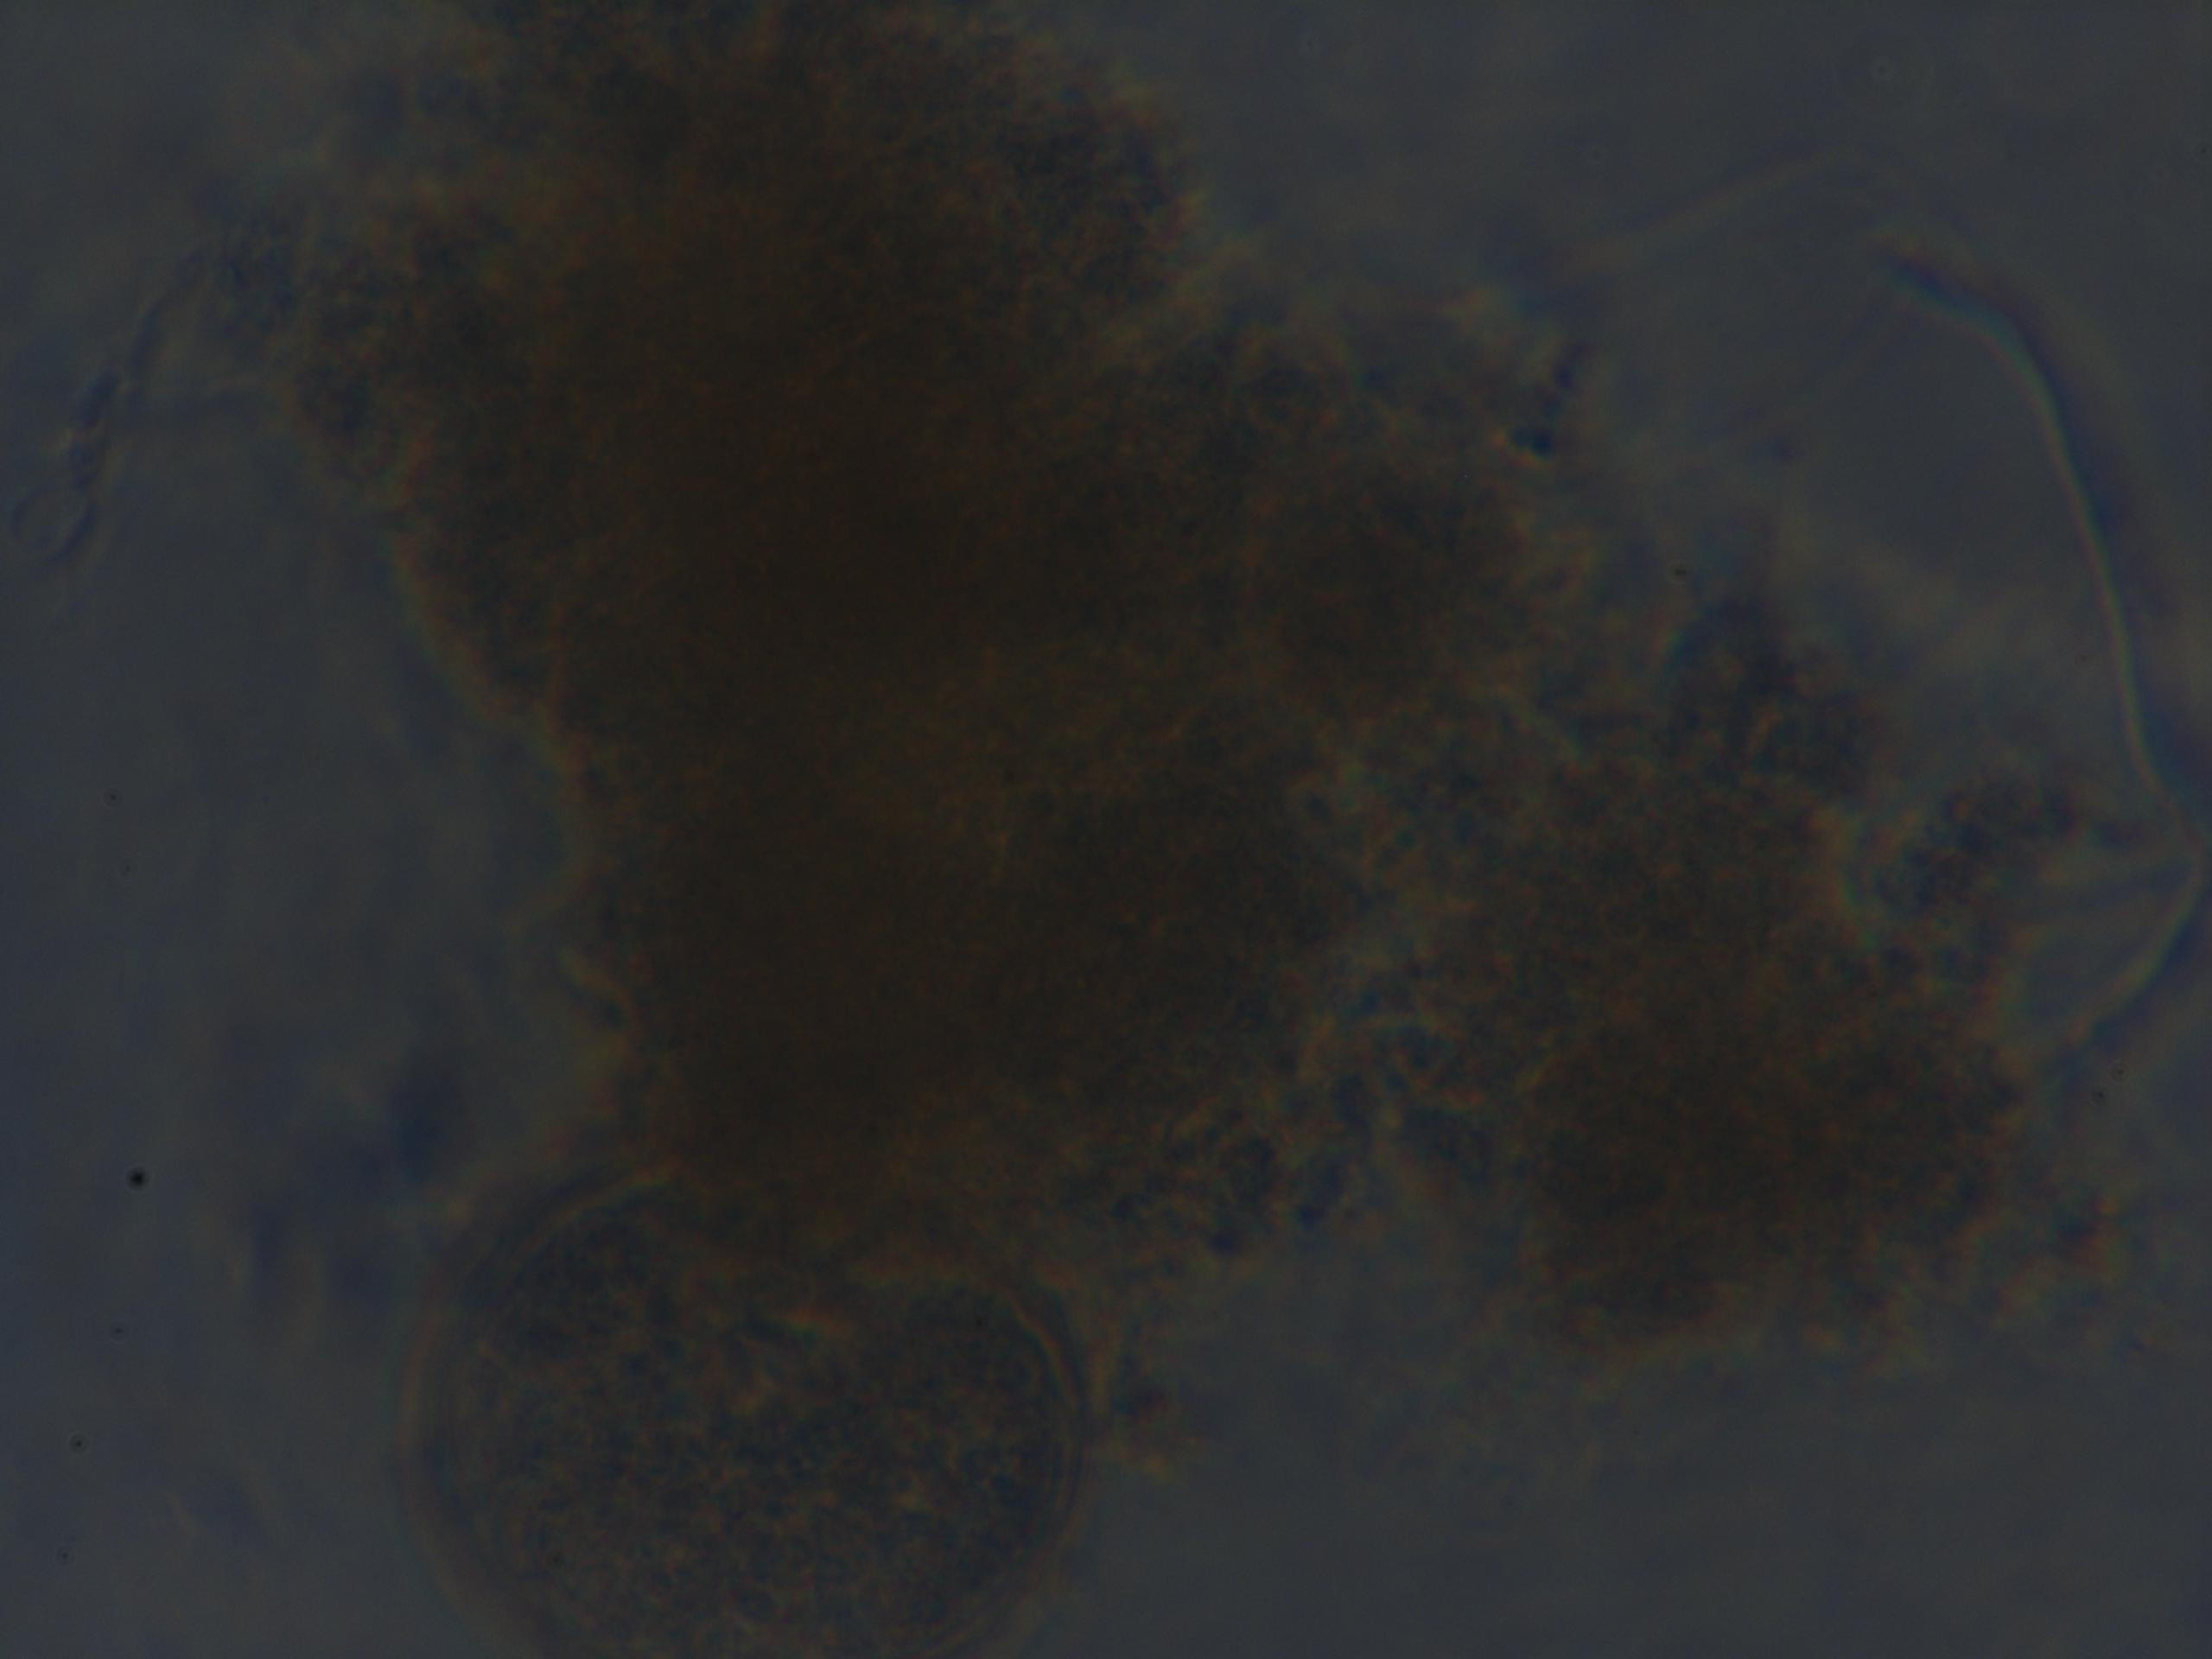filament: (1878, 242, 2212, 1056)
spherical_floc: (266, 14, 2059, 1371)
